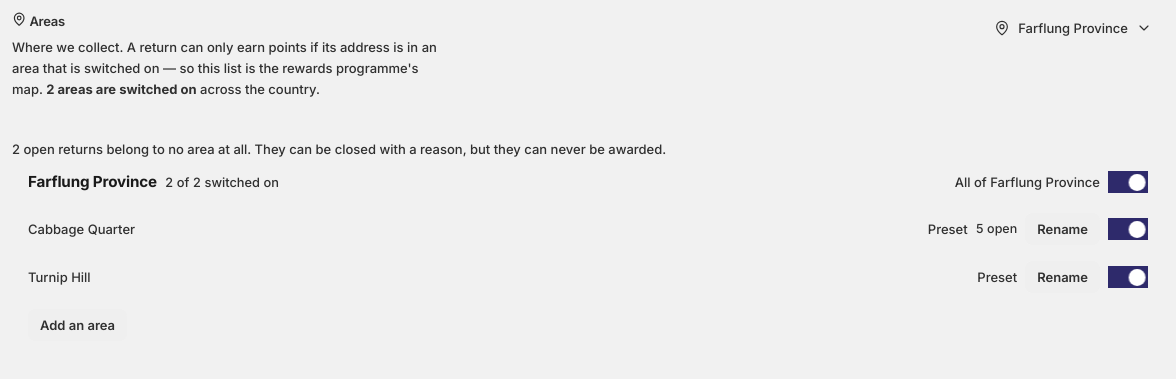
correcting the shipped list › shows a duplicate name as an inline field error, not a toast
The image size is (1176, 379).
Expected: the text "Cabbage Quarter" is shown, [28,221,135,237]
Click the button "Add an area" at x=78, y=325, box [28,309,127,341]
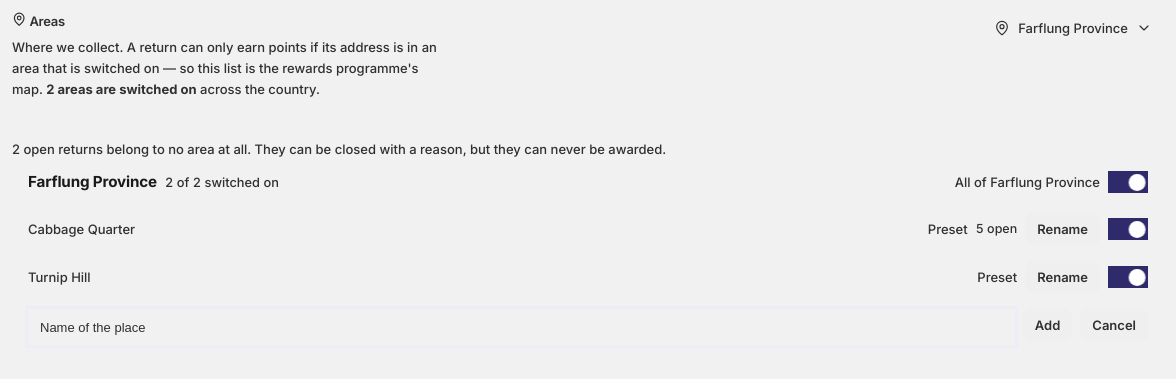
Type "Cabbage Quarter" into the field named "New area in Farflung Province" at x=521, y=327, box [28,309,1015,345]
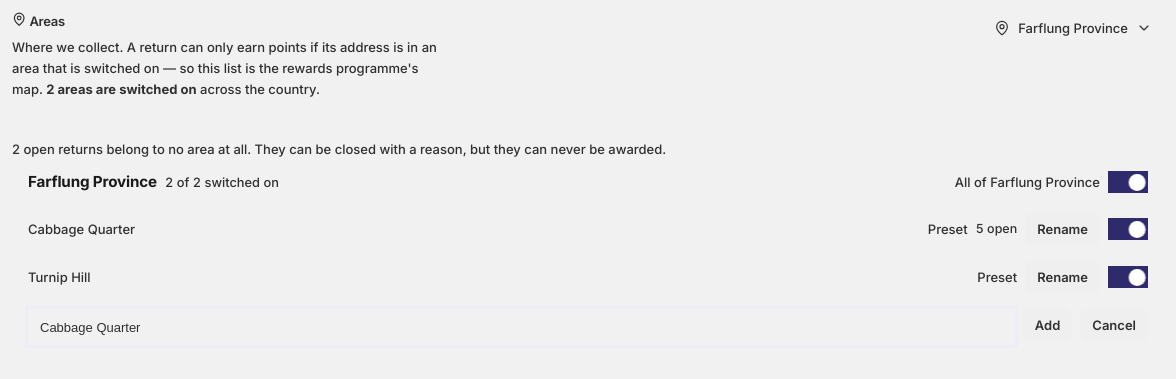
Click the button "Add" at x=1048, y=325, box [1023,309,1072,341]
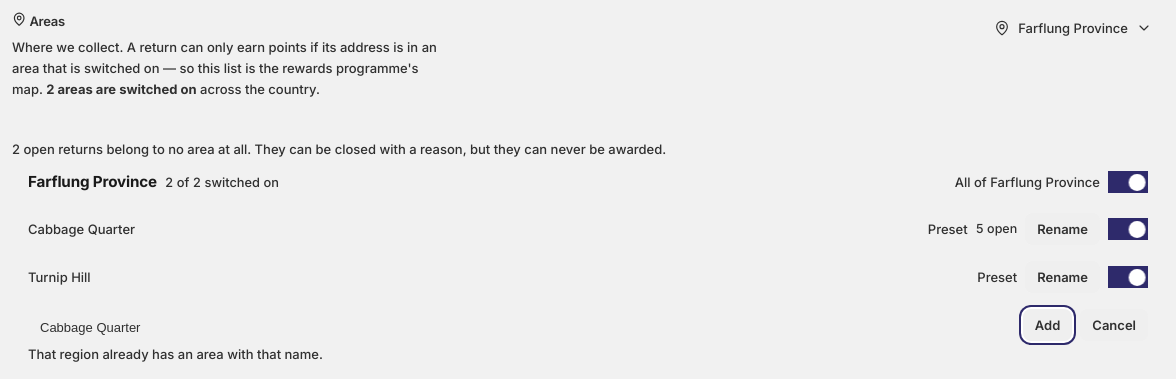
Expected: the text "That region already has an area with that name." is shown, [28,346,323,362]
